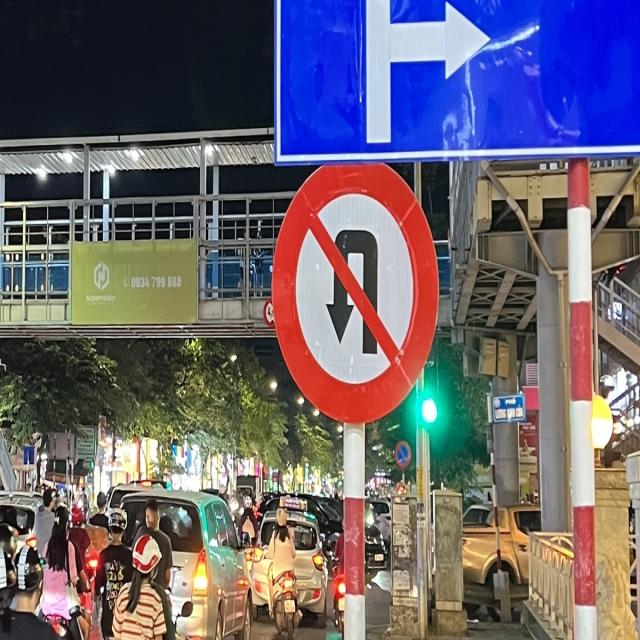Bien bao cam quay dau xe: (249, 159, 460, 450)
